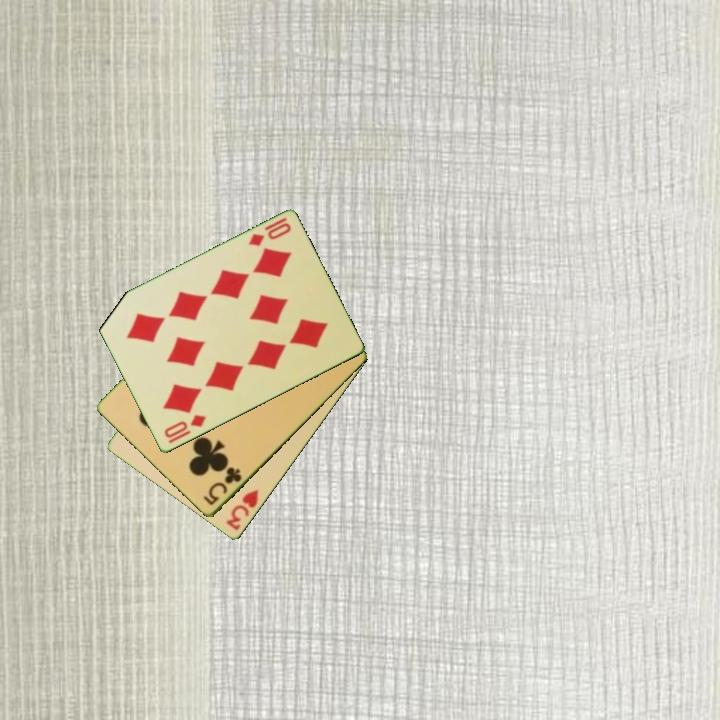10d: (245, 214, 294, 250), (160, 411, 209, 441)
3h: (222, 486, 262, 534)
5c: (200, 464, 245, 509)
